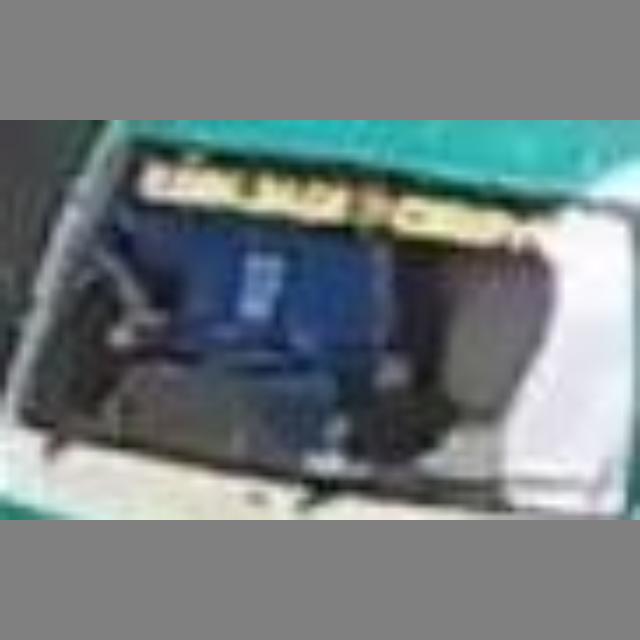tidak-pakai: (113, 197, 415, 380)
